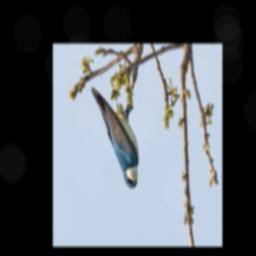Swallow: (89, 85, 142, 193)
